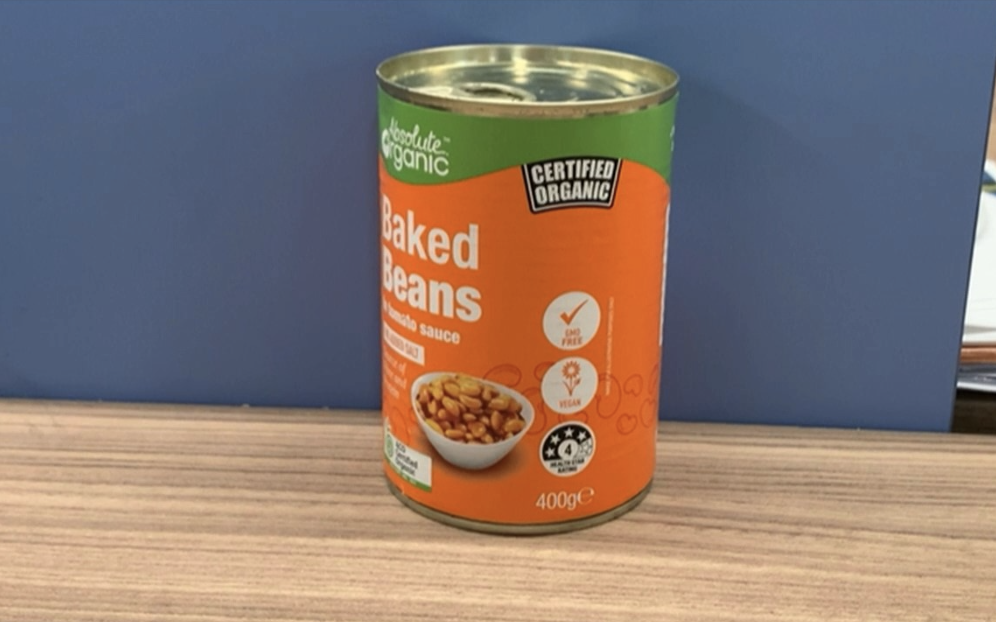Baked beans_450g: (391, 116, 641, 508)
